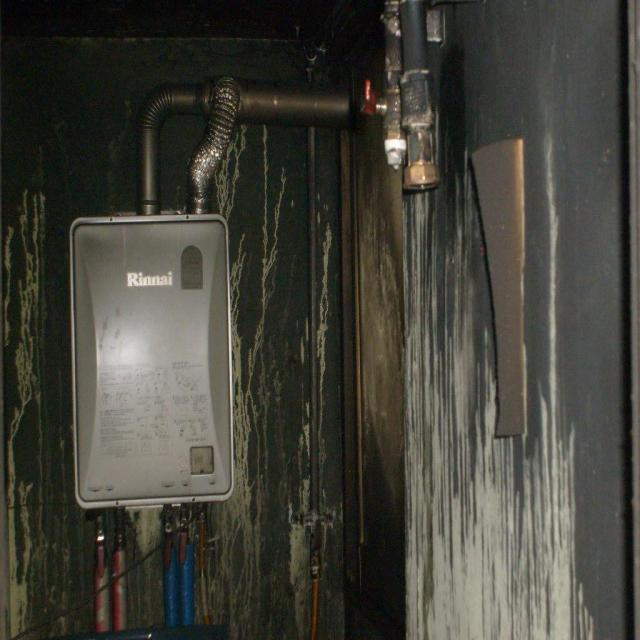Boiler: (39, 145, 281, 571)
